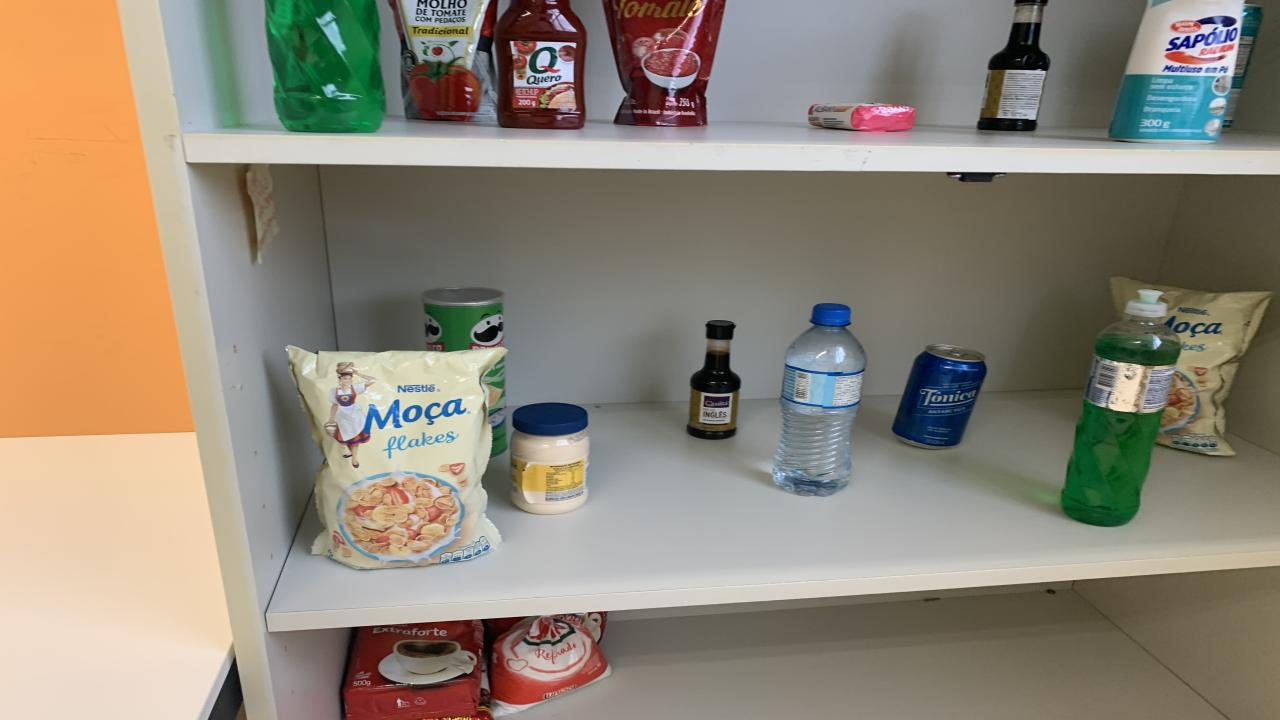Cleaner-Cleanup_Items: (1110, 0, 1242, 142)
Detergent-Cleanup_Items: (1060, 289, 1180, 527), (265, 0, 385, 133)
English_Sauce-Pantry_Items: (978, 0, 1050, 131), (688, 321, 740, 439)
Flakes-Snacks: (288, 347, 508, 570), (1110, 278, 1272, 456)
Ketchup-Pantry_Items: (495, 0, 588, 129)
Mayonnaise-Pantry_Items: (510, 403, 590, 514)
Pringles-Snacks: (422, 287, 505, 352), (482, 360, 508, 456)
Soap-Cleanup_Items: (808, 103, 915, 131)
Tea-Drinks: (1222, 4, 1262, 129)
Tomato_Sauce-Pantry_Items: (602, 0, 725, 126), (390, 0, 498, 122)
Tonic-Drinks: (892, 345, 988, 448)
Water_Bottle-Drinks: (772, 304, 868, 497)
